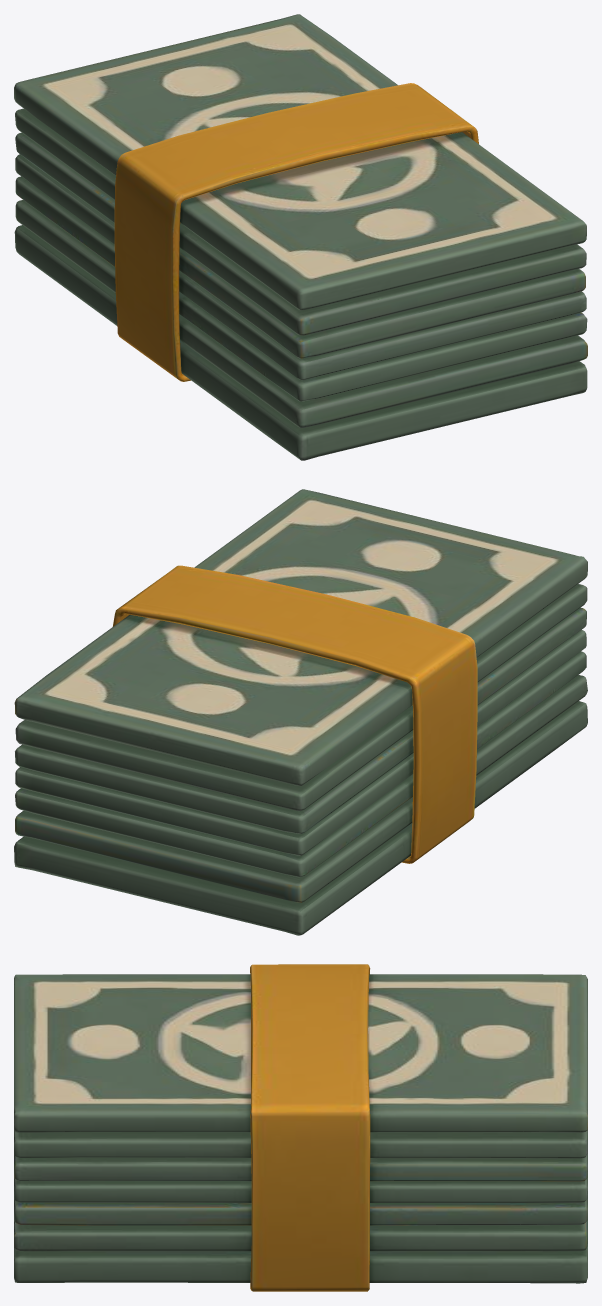
The model's file is cash.glb.
The picture shows the model from 3 angles, top to bottom: view 1: azimuth 30°, elevation 25°; view 2: azimuth 150°, elevation 25°; view 3: azimuth 270°, elevation 25°; orthographic projection.
Visible parts, largest first — view 1: cash; view 2: cash; view 3: cash.
Boxes of the visible parts, x1=… form: cash: x1=14, y1=14, x2=587, y2=460; cash: x1=14, y1=489, x2=587, y2=935; cash: x1=14, y1=964, x2=587, y2=1291.
Bounding box in the file's own units: 0.1119 × 0.0687 × 0.18.
1 material, 1 textured.
